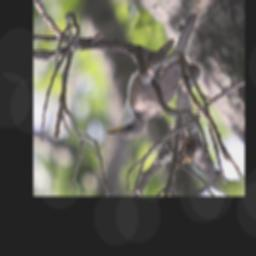Cuckoo: (104, 9, 198, 143)
